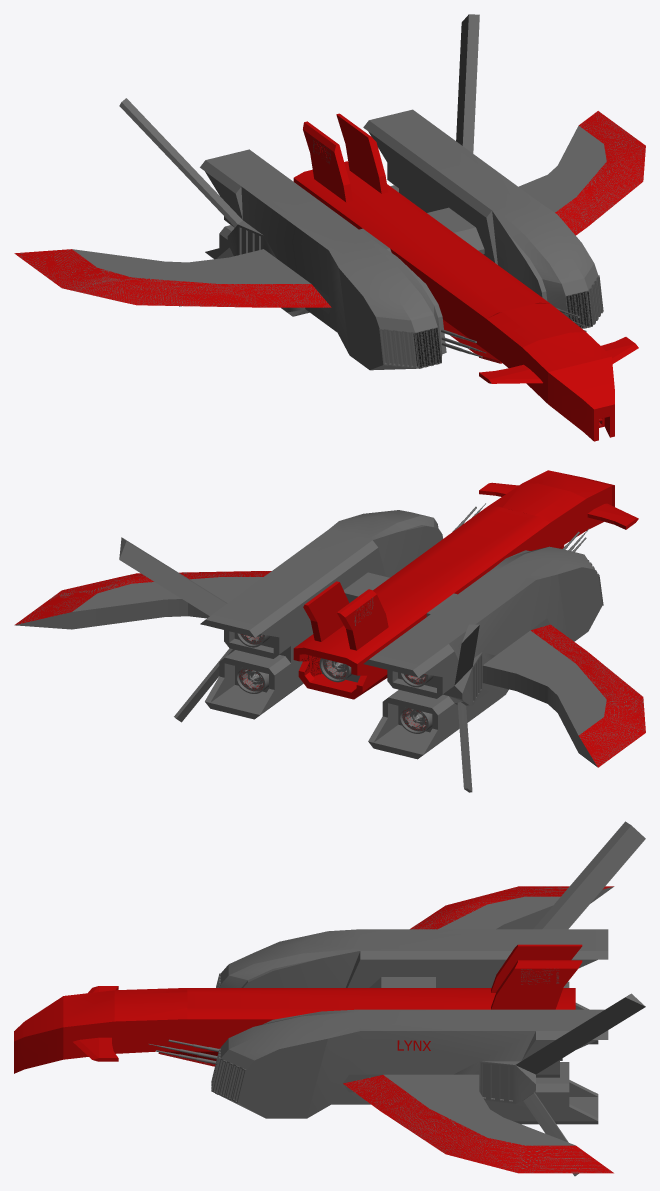
Rendered from spaceship.fbx.
3 views of the same model, one above another, from view 1: azimuth 30°, elevation 25°; view 2: azimuth 150°, elevation 25°; view 3: azimuth 270°, elevation 25° (orthographic).
Visible parts, largest first — view 1: instance_3, instance_11, instance_9, instance_4.003, instance_4.007, instance_4.002, instance_4.006, instance_2, instance_8, group_1.001, instance_12.001; view 2: instance_3, instance_9, instance_11, instance_4.002, instance_4.006, instance_4.003, instance_4.007, instance_8, instance_2, instance_12.001, group_1.001, group_0.001 (+1 smaller); view 3: instance_9, instance_11, instance_3, instance_4.007, instance_4.006, instance_2, instance_4.002, instance_4.003, instance_8, instance_13.001, group_1, instance_2.001.
Boxes of the visible parts, <box> form: instance_3: <box>119,98,446,370</box>; instance_11: <box>293,161,614,441</box>; instance_9: <box>368,14,603,328</box>; instance_4.003: <box>14,249,331,307</box>; instance_4.007: <box>555,111,645,235</box>; instance_4.002: <box>72,249,310,283</box>; instance_4.006: <box>518,125,606,212</box>; instance_2: <box>336,113,387,193</box>; instance_8: <box>303,121,352,202</box>; group_1.001: <box>427,207,484,254</box>; instance_12.001: <box>479,364,542,383</box>; instance_3: <box>368,546,603,792</box>; instance_9: <box>119,510,442,722</box>; instance_11: <box>293,470,614,699</box>; instance_4.002: <box>482,630,606,767</box>; instance_4.006: <box>15,577,263,629</box>; instance_4.003: <box>531,624,645,767</box>; instance_4.007: <box>14,571,271,625</box>; instance_8: <box>337,589,388,650</box>; instance_2: <box>303,581,349,641</box>; instance_12.001: <box>587,503,638,529</box>; group_1.001: <box>343,572,389,602</box>; group_0.001: <box>200,616,259,637</box>; instance_9: <box>211,993,645,1176</box>; instance_11: <box>14,988,575,1073</box>; instance_3: <box>216,821,645,1044</box>; instance_4.007: <box>343,1075,613,1173</box>; instance_4.006: <box>383,1074,575,1145</box>; instance_2: <box>491,960,582,1009</box>; instance_4.002: <box>438,886,613,929</box>; instance_4.003: <box>410,886,613,929</box>; instance_8: <box>491,944,582,992</box>; instance_13.001: <box>73,1037,118,1061</box>; group_1: <box>369,977,435,987</box>; instance_2.001: <box>521,968,559,984</box>.
Bounding box in the file's own units: 5276 × 1682 × 4912.
